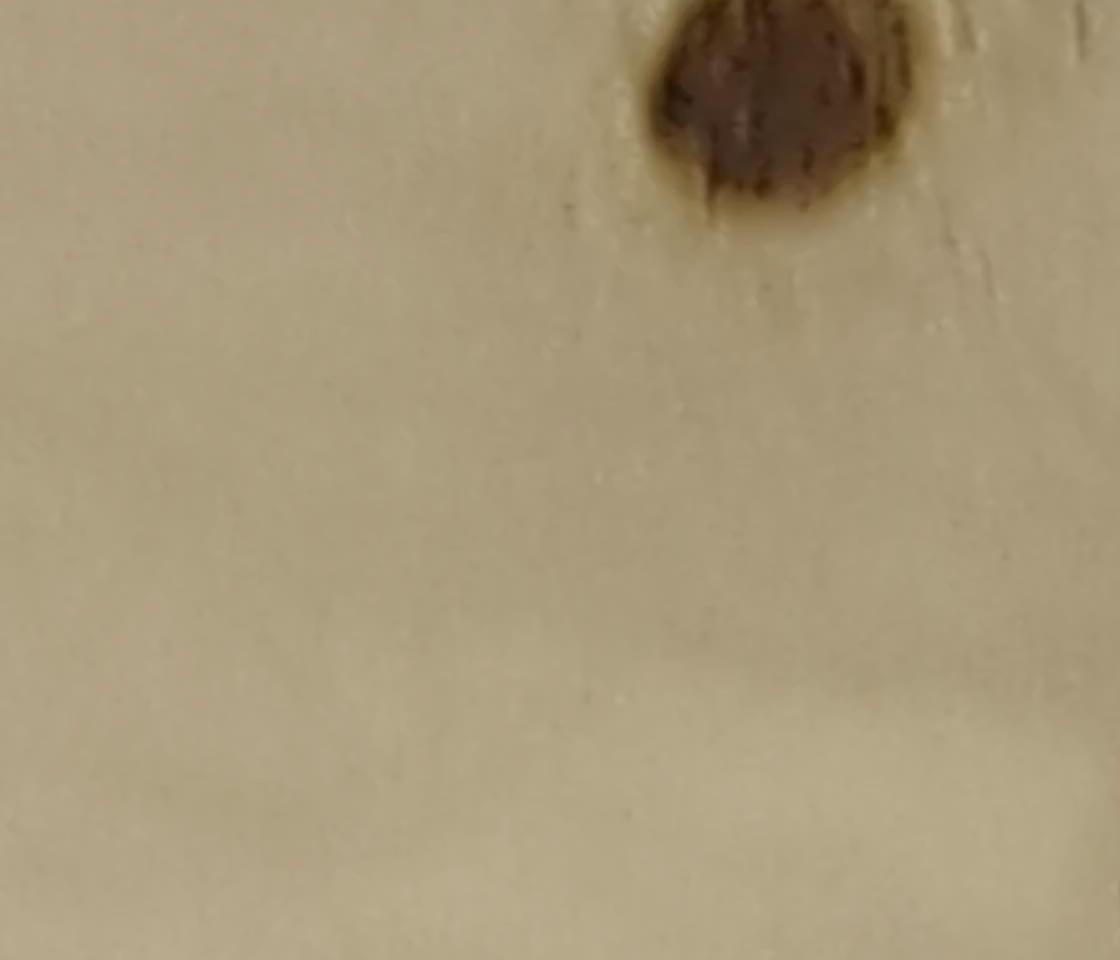rust: (652, 3, 902, 184)
